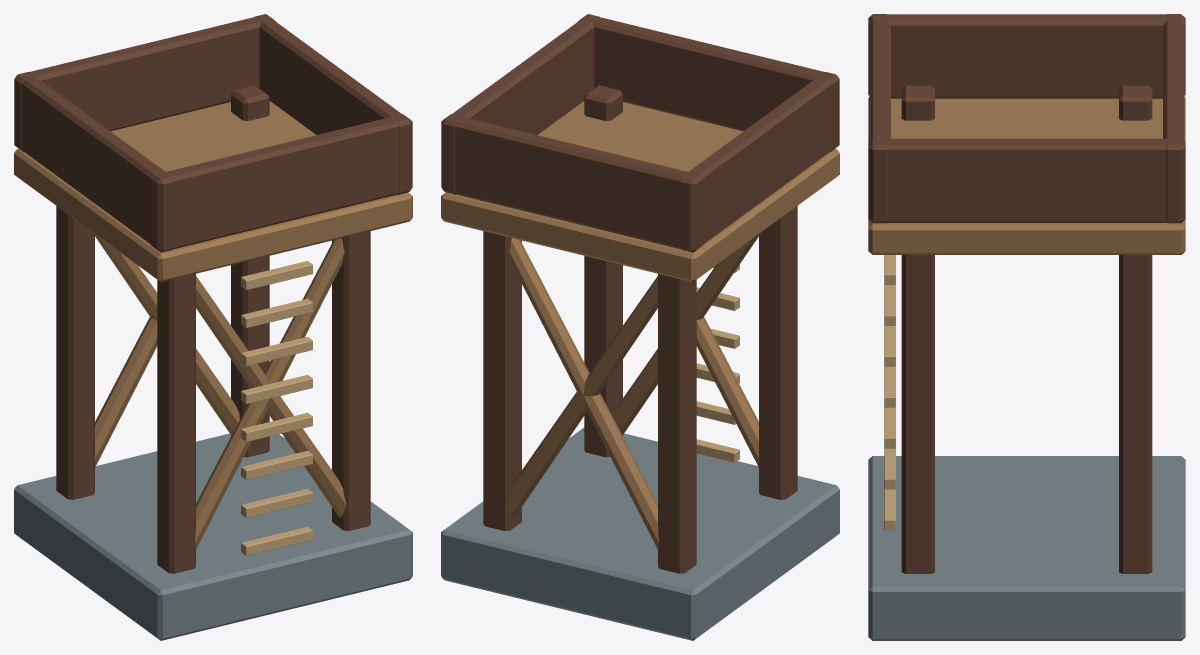
The model's file is tower.glb.
The picture shows the model from 3 angles, left to right: view 1: azimuth 30°, elevation 25°; view 2: azimuth 150°, elevation 25°; view 3: azimuth 270°, elevation 25°; orthographic projection. The views are drawn at different scales.
Parts seen in each view (by area): view 1: Geometry; view 2: Geometry; view 3: Geometry.
Boxes of the visible parts, <box> form: Geometry: <box>14,14,412,640</box>; Geometry: <box>441,14,839,640</box>; Geometry: <box>868,14,1185,640</box>.
Size of the model in its own units: 1.9 by 3.28 by 1.9.
